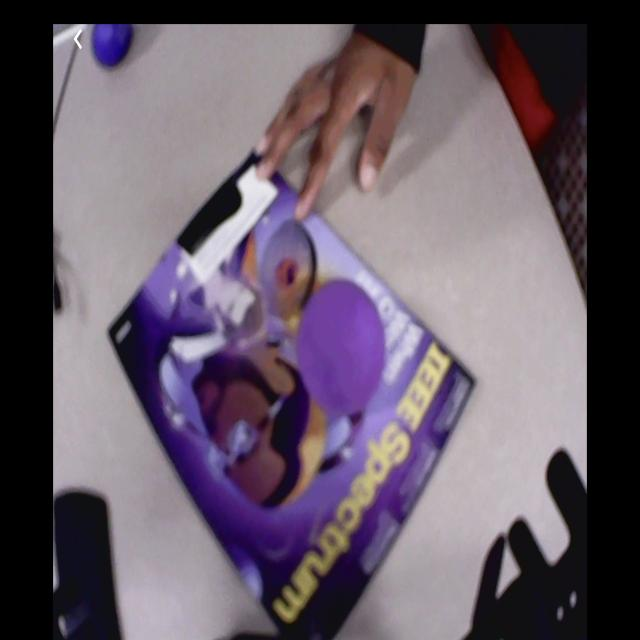ball: (300, 279, 386, 413), (92, 24, 136, 69)
